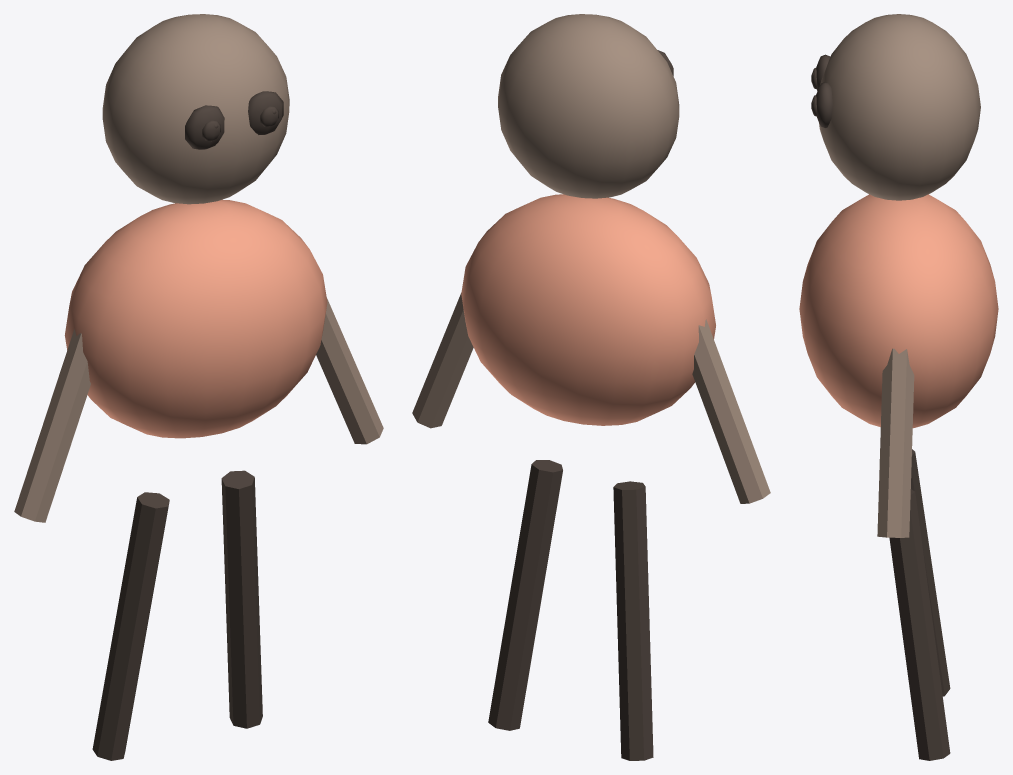
File: villager.glb
The picture shows the model from 3 angles, left to right: view 1: azimuth 30°, elevation 25°; view 2: azimuth 150°, elevation 25°; view 3: azimuth 270°, elevation 25°; orthographic projection. The views are drawn at different scales.
Parts seen in each view (by area): view 1: villager_root; view 2: villager_root; view 3: villager_root.
Part boxes in pixels (box(x1,y1,x2,y2)): villager_root: box(14, 14, 383, 760); villager_root: box(412, 14, 770, 760); villager_root: box(799, 14, 998, 760).
Bounding box in the file's own units: 0.883 × 1.7 × 0.4364.
